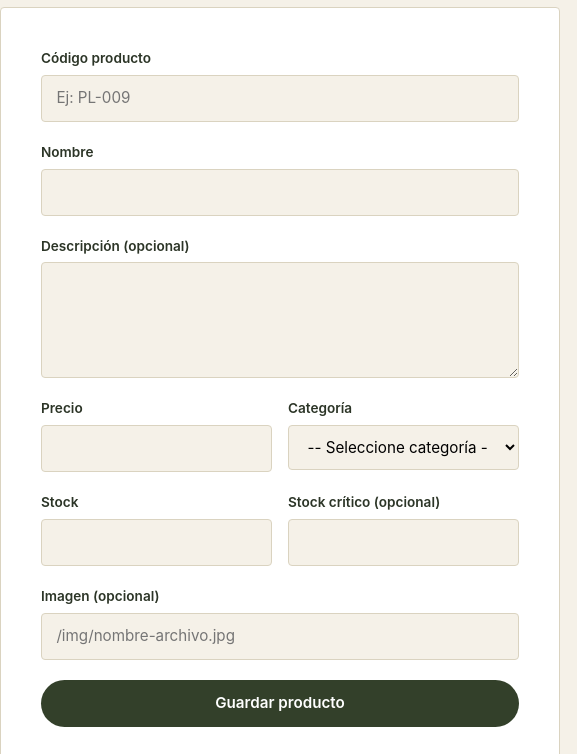
it: AdminProductoForm › no muestra errores al inicio y los muestra al enviar vacío (renderizado condicional)
(page scrolled)
Click the button "Guardar producto" at (280, 703), box [41, 680, 519, 727]
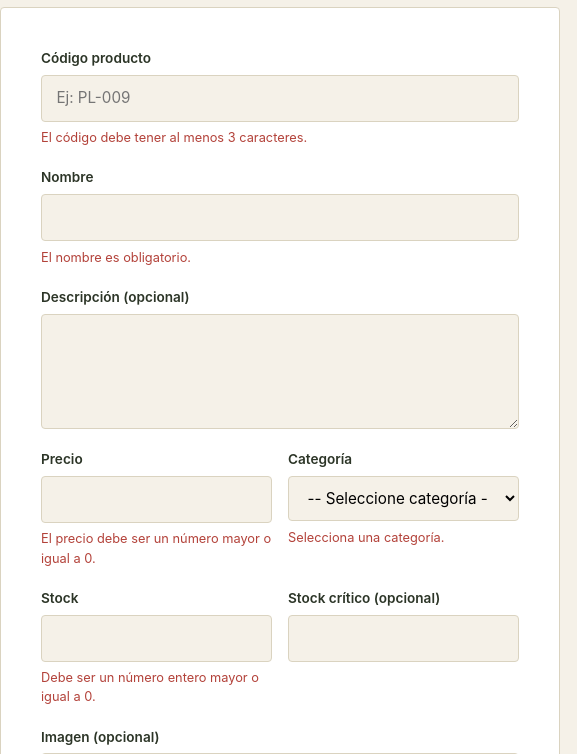
Check: the text "El código debe tener al menos 3 caracteres." is shown, box [41, 130, 307, 145]
Check: the text "El nombre es obligatorio." is shown, box [41, 250, 191, 265]
Check: the text "Selecciona una categoría." is shown, box [288, 530, 444, 545]
